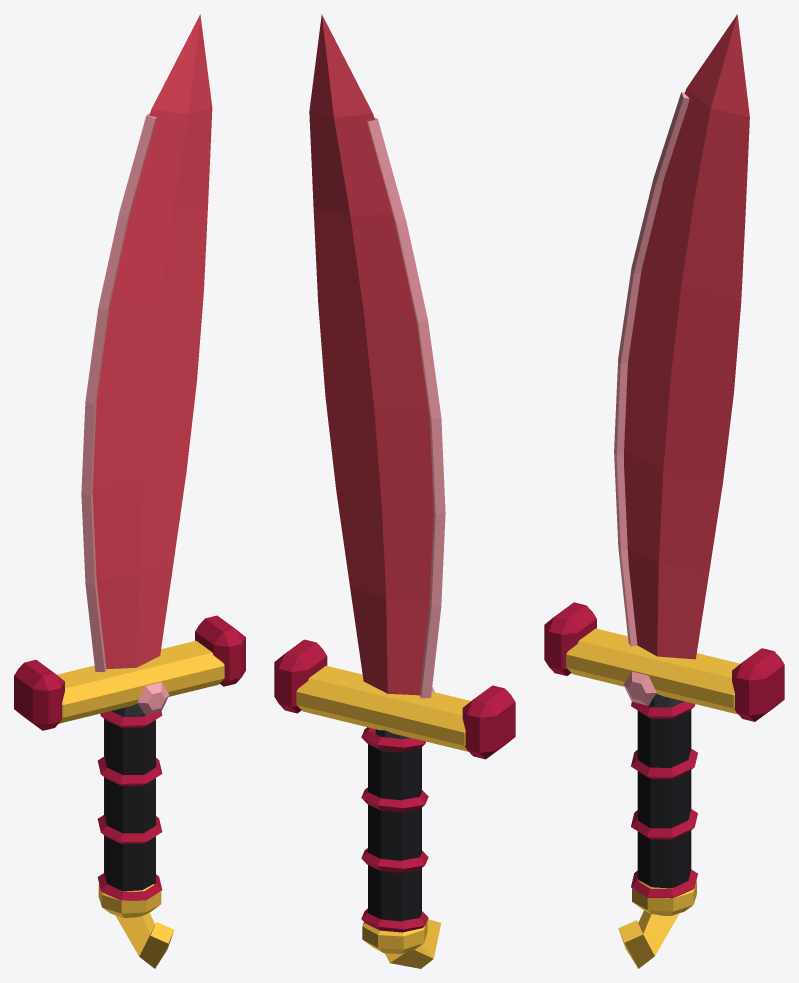
The model's file is RubyScimitar.fbx.
3 views of the same model, side by side, from view 1: azimuth 30°, elevation 25°; view 2: azimuth 150°, elevation 25°; view 3: azimuth 330°, elevation 25° (orthographic). The views are drawn at different scales.
Visible parts, largest first — view 1: RubyScimitar; view 2: RubyScimitar; view 3: RubyScimitar.
Part boxes in pixels (x1,y1,x2,y2): RubyScimitar: [14, 14, 245, 968]; RubyScimitar: [274, 14, 515, 968]; RubyScimitar: [544, 14, 784, 968].
Size of the model in its own units: 1.06 by 4.37 by 0.4747.
Materials: 1 (1 with a texture image).
